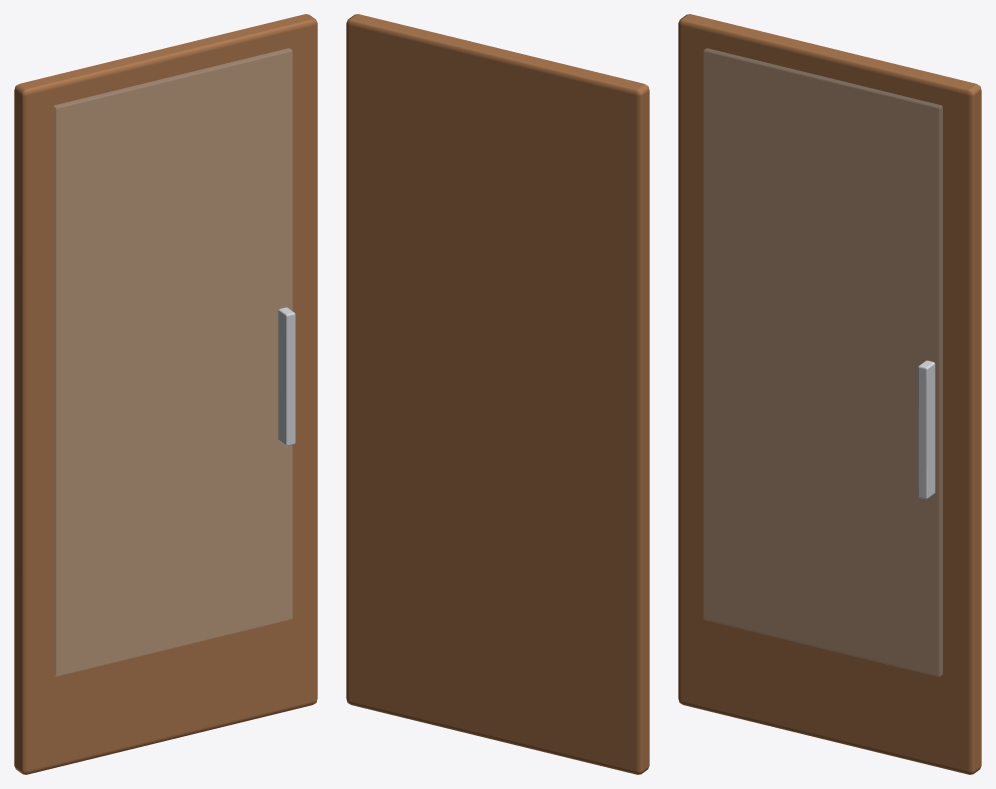
Rendered from wp-porte-vitree.glb.
3 views of the same model, side by side, from view 1: azimuth 30°, elevation 25°; view 2: azimuth 150°, elevation 25°; view 3: azimuth 330°, elevation 25° (orthographic).
Visible parts, largest first — view 1: wp-porte-vitree; view 2: wp-porte-vitree; view 3: wp-porte-vitree.
Boxes of the visible parts, x1=… form: wp-porte-vitree: x1=14, y1=14, x2=317, y2=774; wp-porte-vitree: x1=346, y1=14, x2=649, y2=774; wp-porte-vitree: x1=678, y1=14, x2=981, y2=774.
Bounding box in the file's own units: 0.95 × 2.1 × 0.12.
